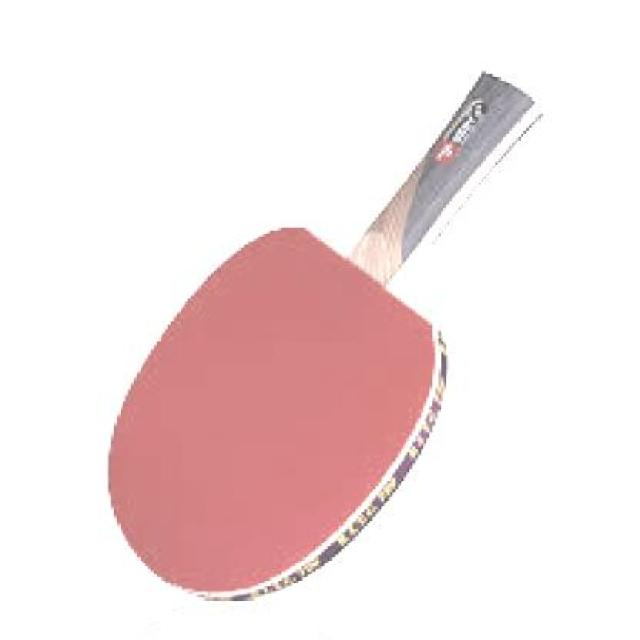table_tennis_racket: (105, 214, 452, 597)
